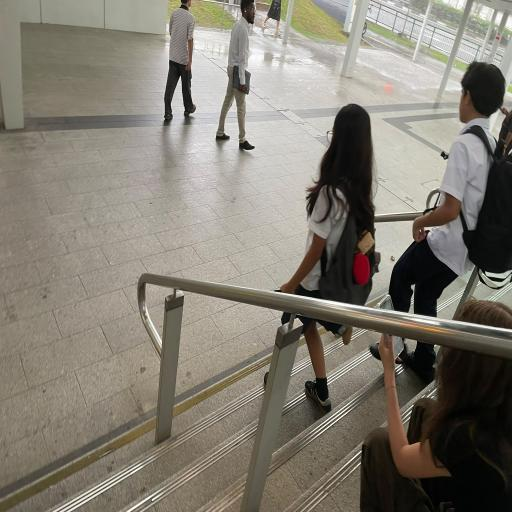person_right: (202, 5, 266, 165), (160, 5, 198, 121)
